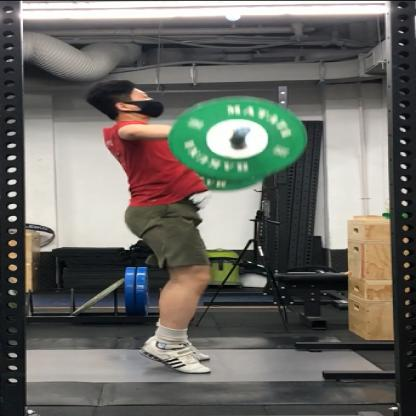Barbell: (157, 92, 315, 182)
